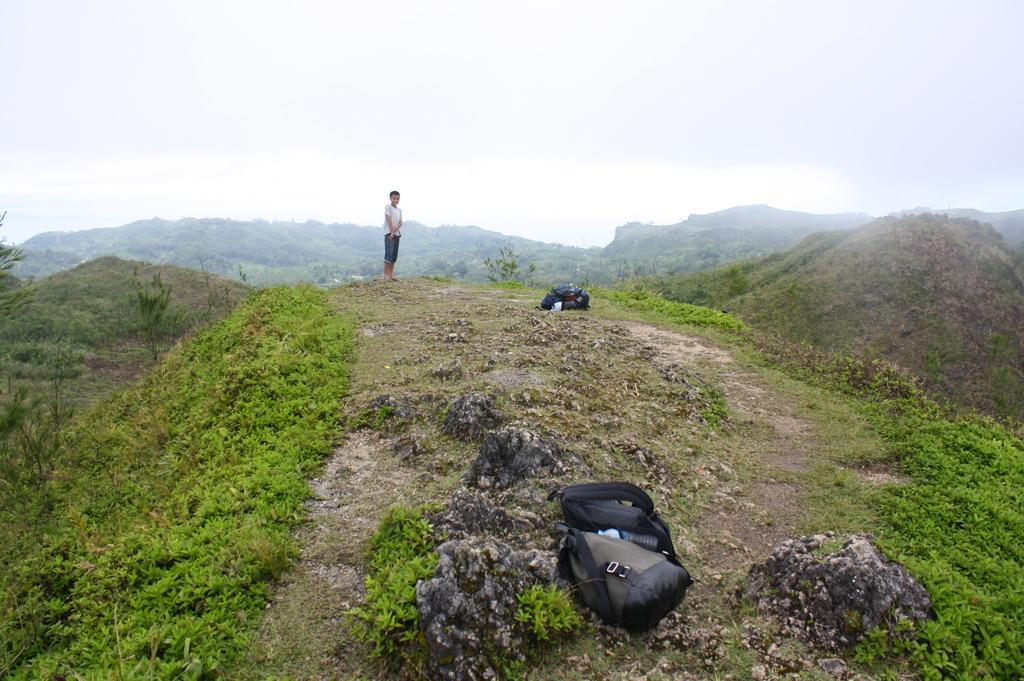Luggage-and-bags: (552, 479, 696, 638), (536, 282, 591, 312)
